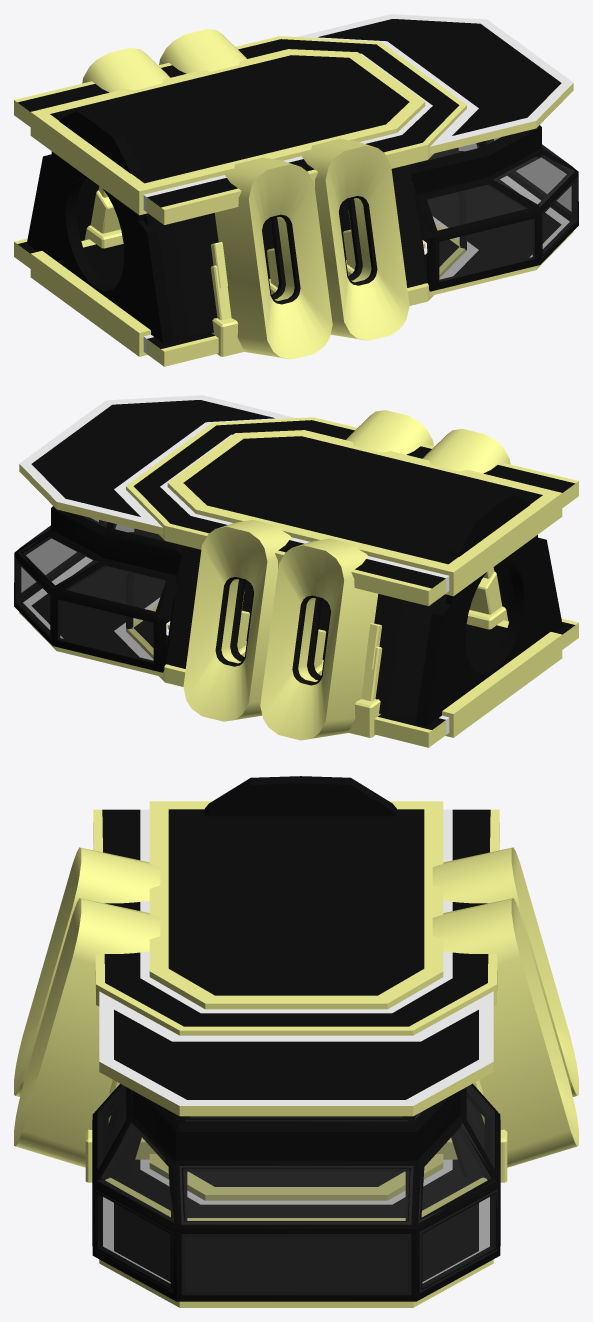
File: ExteriorCabin.FBX
The picture shows the model from 3 angles, top to bottom: view 1: azimuth 30°, elevation 25°; view 2: azimuth 150°, elevation 25°; view 3: azimuth 270°, elevation 25°; orthographic projection. The views are drawn at different scales.
Parts seen in each view (by area): view 1: Box019, Line010, Object001, Object002; view 2: Box019, Line010, Object001, Object002; view 3: Box019, Object002, Object001, Line010.
Part boxes in pixels (x1,y1,x2,y2): Box019: (14,14,573,366); Line010: (27,108,174,343); Object001: (410,125,578,291); Object002: (422,137,577,281); Box019: (19,395,578,747); Line010: (415,491,562,726); Object001: (14,506,182,672); Object002: (15,516,170,662); Box019: (14,801,578,1307); Object002: (95,1085,497,1294); Object001: (92,1083,500,1301); Line010: (204,776,396,816).
Size of the model in its own units: 670 by 279 by 539.
